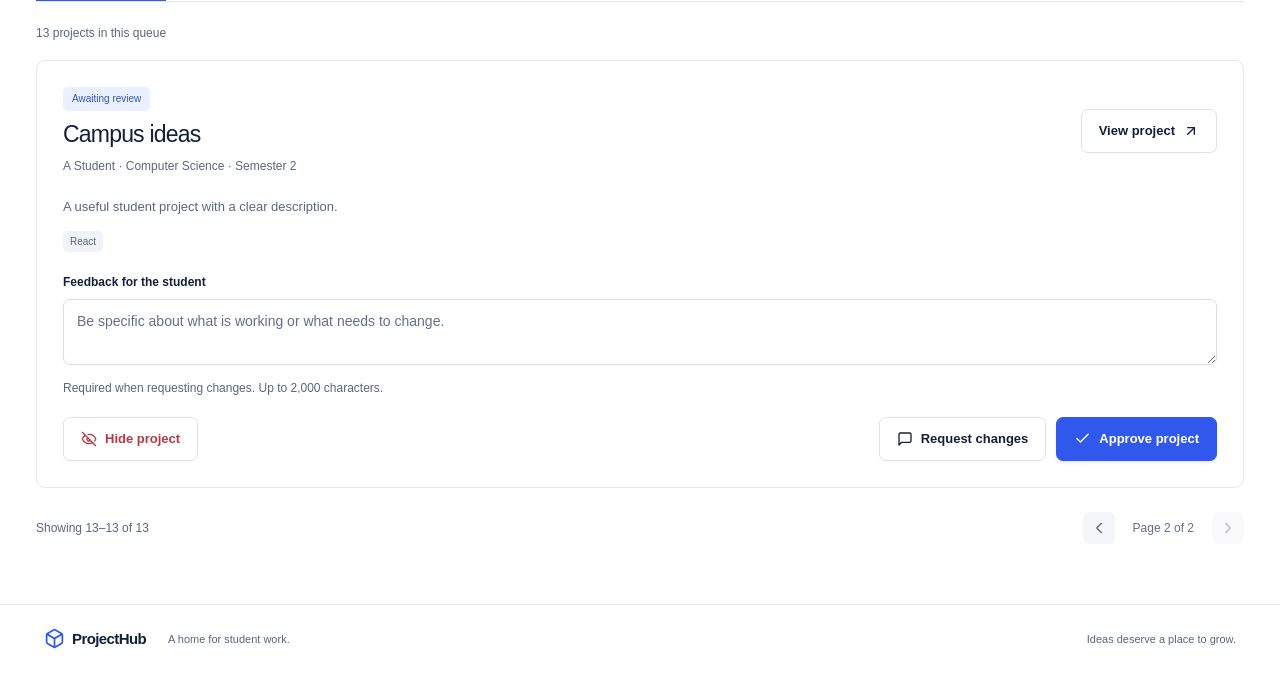
Test: reviewing the final row reloads the same page before moving to the remaining last page
(page scrolled)
Expected: the text "Page 2 of 2" is shown, x1=1133 y1=518 x2=1194 y2=536
Click the button "Approve project".
click(1137, 438)  # box x1=1056 y1=416 x2=1217 y2=460
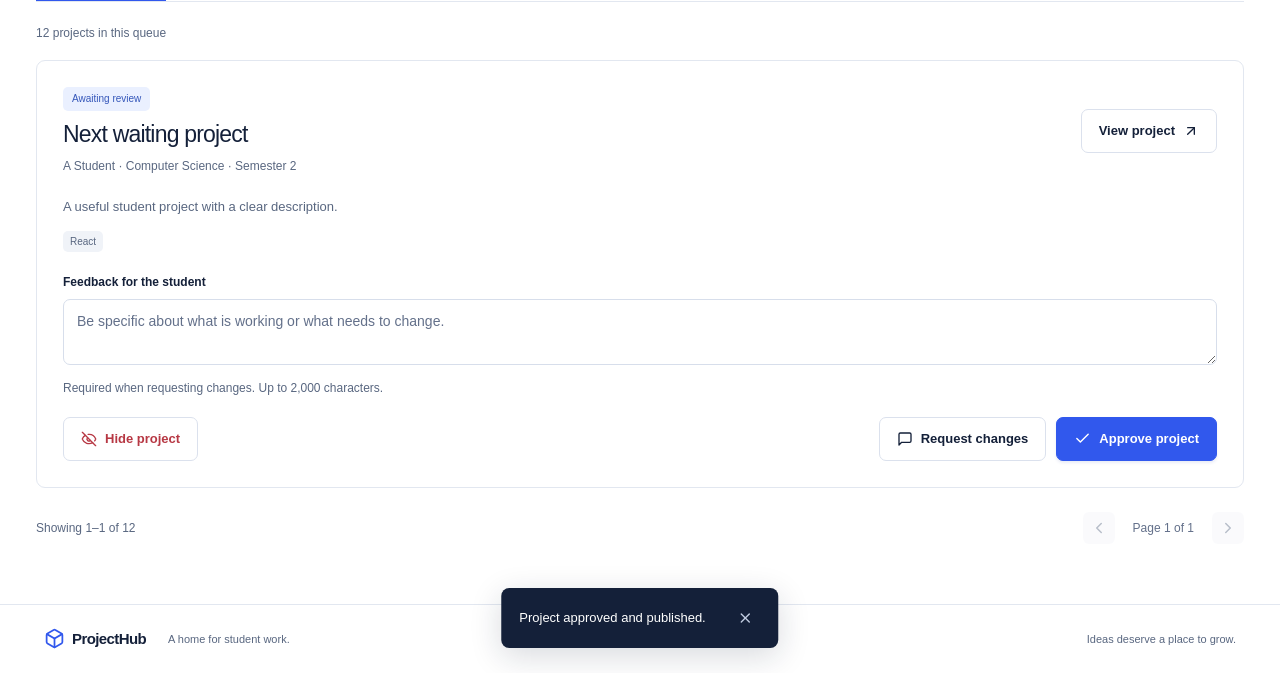
Now the heading "Next waiting project" is shown, box x1=63 y1=121 x2=248 y2=147
